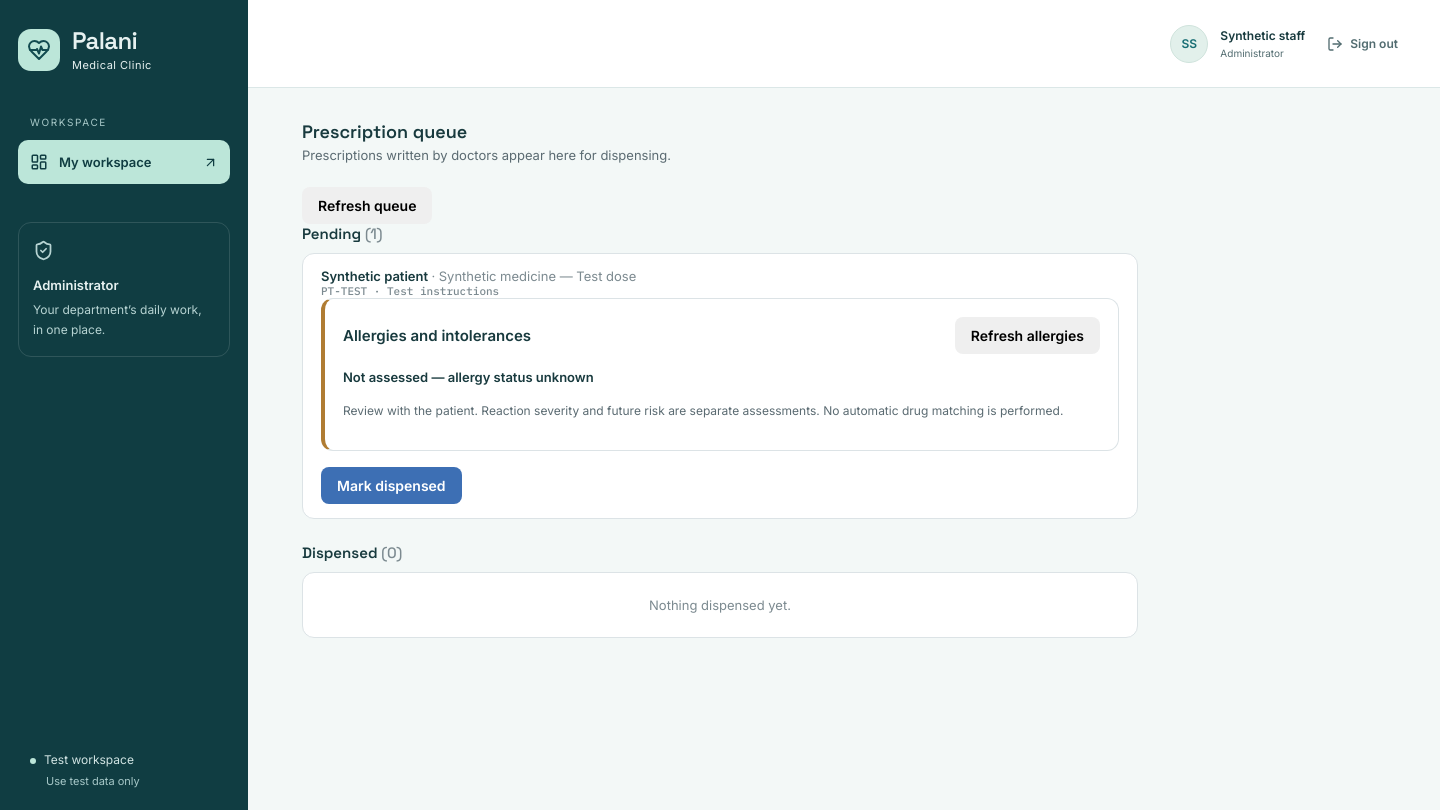
Test case: pharmacy completion › keeps pending rows when a write fails
The width and height of the screenshot is (1440, 810).
Step 1. Click the button "Mark dispensed" → {"x": 391, "y": 486}, box x1=321 y1=467 x2=462 y2=504
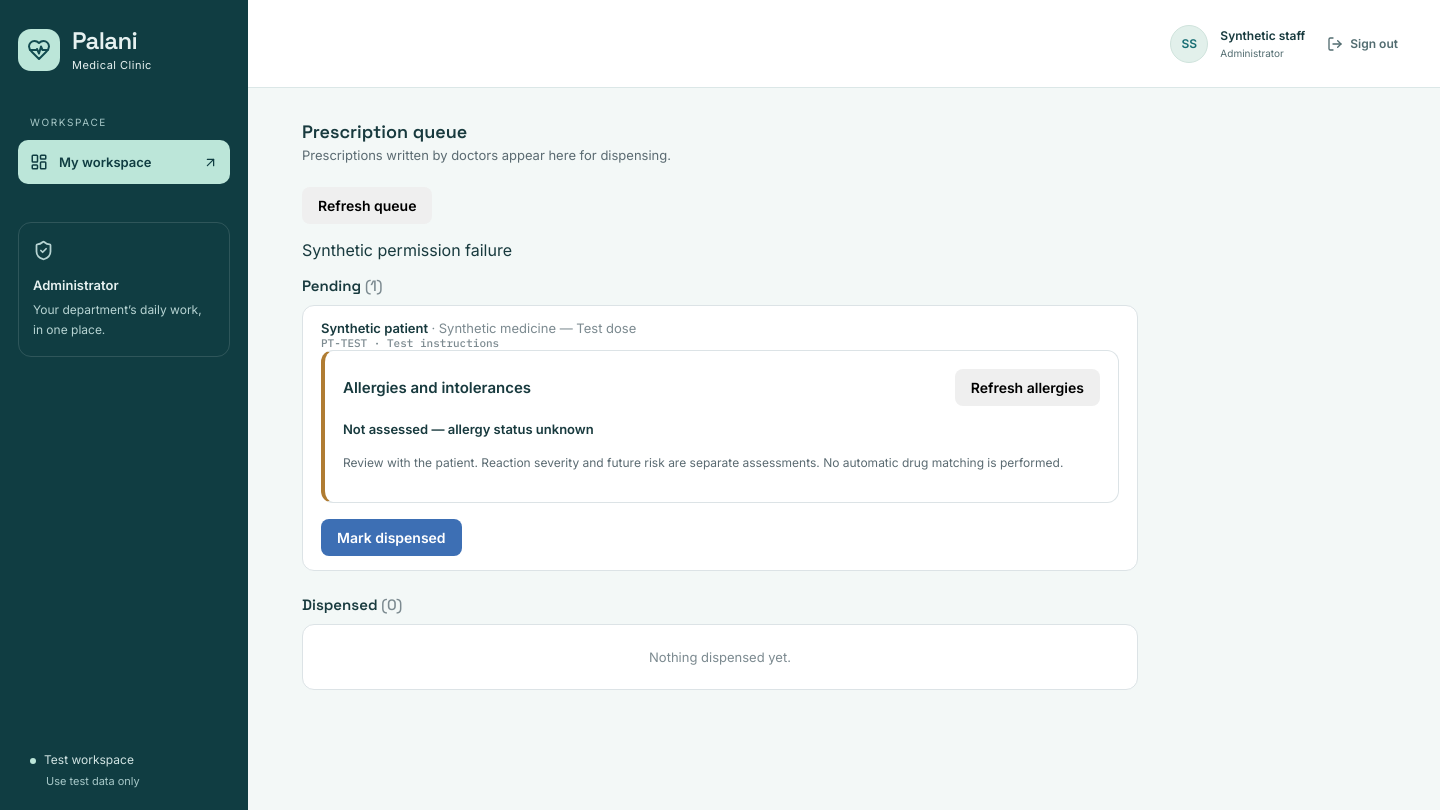
Expected: the button "Mark dispensed" is enabled, x1=321 y1=519 x2=462 y2=556
Now the message reads "Synthetic permission failure", box x1=302 y1=240 x2=512 y2=260
